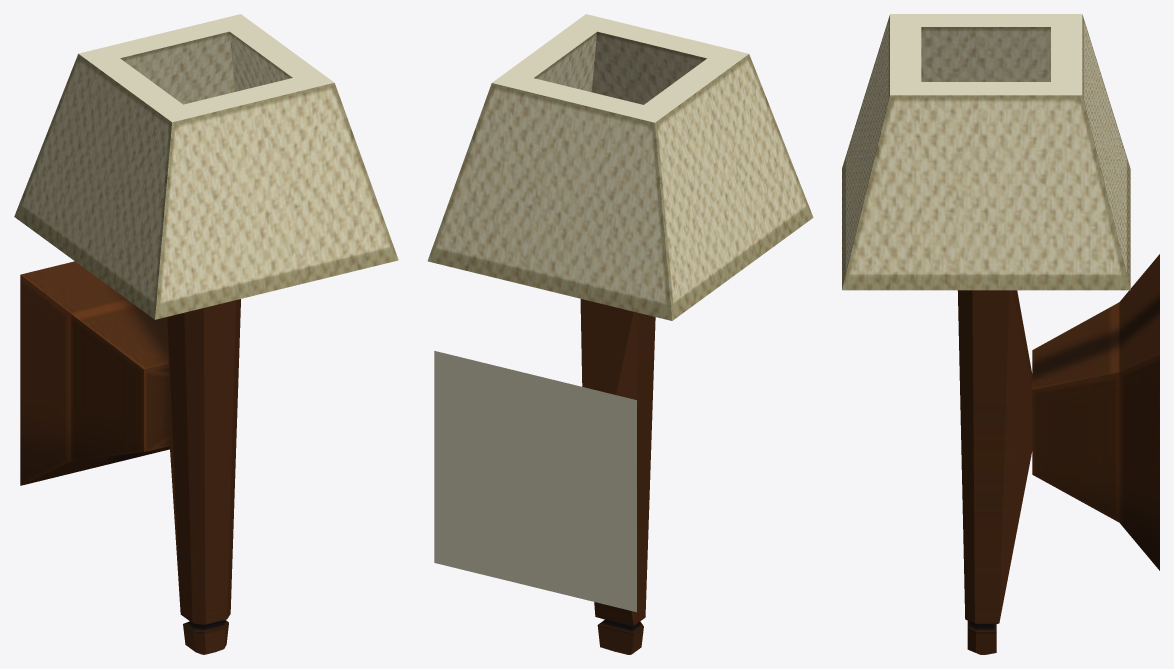
File: Wall_Lamp.fbx
3 renders of one model, left to right at view 1: azimuth 30°, elevation 25°; view 2: azimuth 150°, elevation 25°; view 3: azimuth 270°, elevation 25°, orthographic. The views are drawn at different scales.
Visible parts, largest first — view 1: Wall_Lamp; view 2: Wall_Lamp; view 3: Wall_Lamp.
Boxes of the visible parts, left/top/right/bottom form: Wall_Lamp: left=14, top=14, right=398, bottom=654; Wall_Lamp: left=427, top=14, right=813, bottom=654; Wall_Lamp: left=842, top=14, right=1159, bottom=654.
Size of the model in its own units: 14015 by 32011 by 15447.
1 material, 1 textured.
